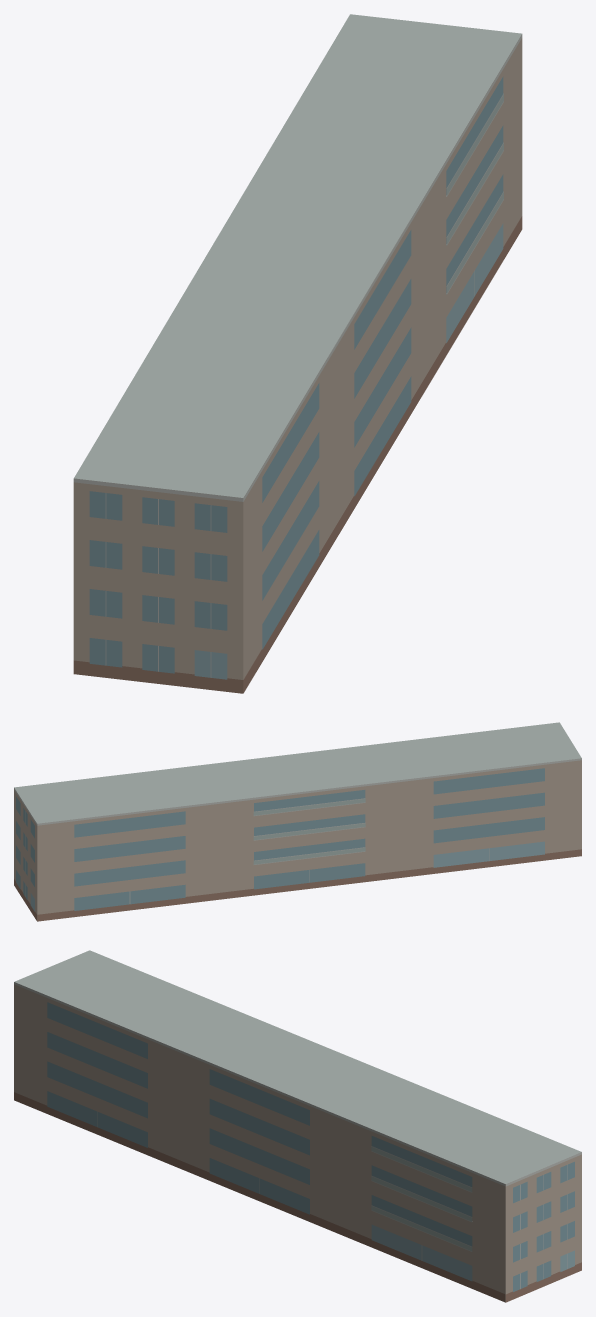
Rendered from survey-upis-32758174.glb.
3 renders of one model, top to bottom at view 1: azimuth 30°, elevation 25°; view 2: azimuth 150°, elevation 25°; view 3: azimuth 270°, elevation 25°, orthographic. The views are drawn at different scales.
Parts seen in each view (by area): view 1: survey-upis-32758174.tmp; view 2: survey-upis-32758174.tmp; view 3: survey-upis-32758174.tmp.
Boxes of the visible parts, bbox=[...] form: survey-upis-32758174.tmp: bbox=[73, 14, 522, 693]; survey-upis-32758174.tmp: bbox=[14, 722, 581, 921]; survey-upis-32758174.tmp: bbox=[14, 950, 581, 1302].
Size of the model in its own units: 51.69 by 12.2 by 53.02.
